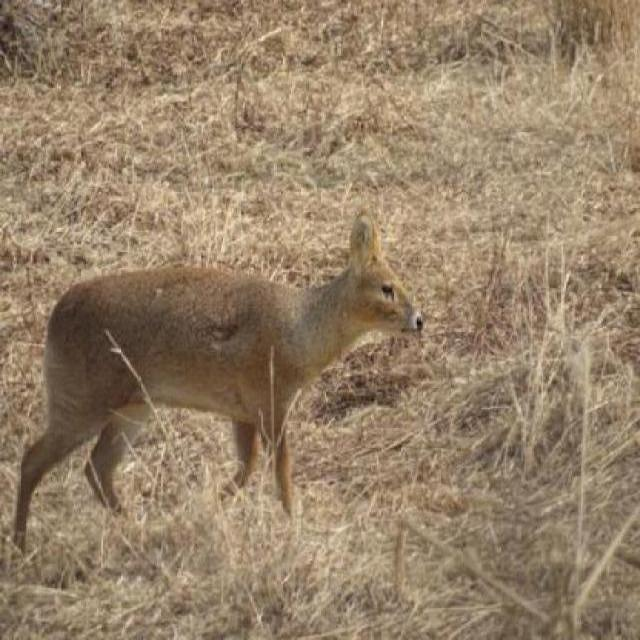deer: (0, 199, 432, 552)
